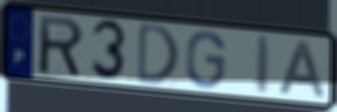3: (87, 18, 133, 84)
A: (276, 39, 328, 100)
D: (135, 20, 181, 87)
G: (184, 29, 228, 91)
I: (255, 33, 274, 98)
R: (37, 13, 86, 79)
